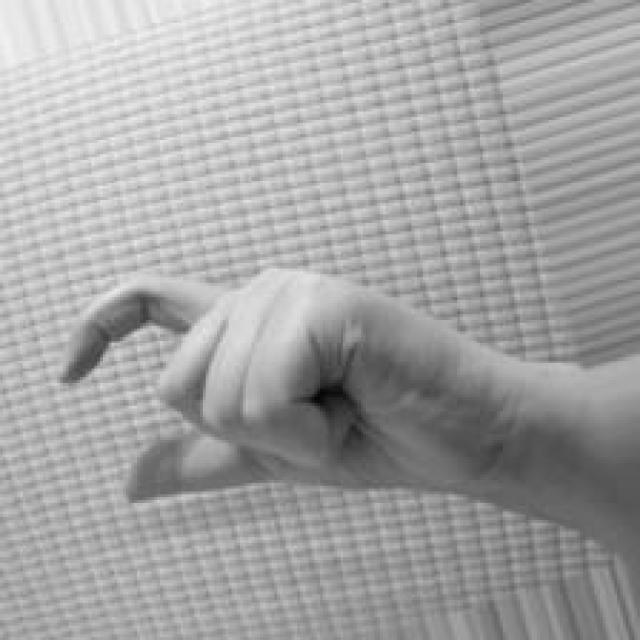C: (58, 270, 430, 507)
